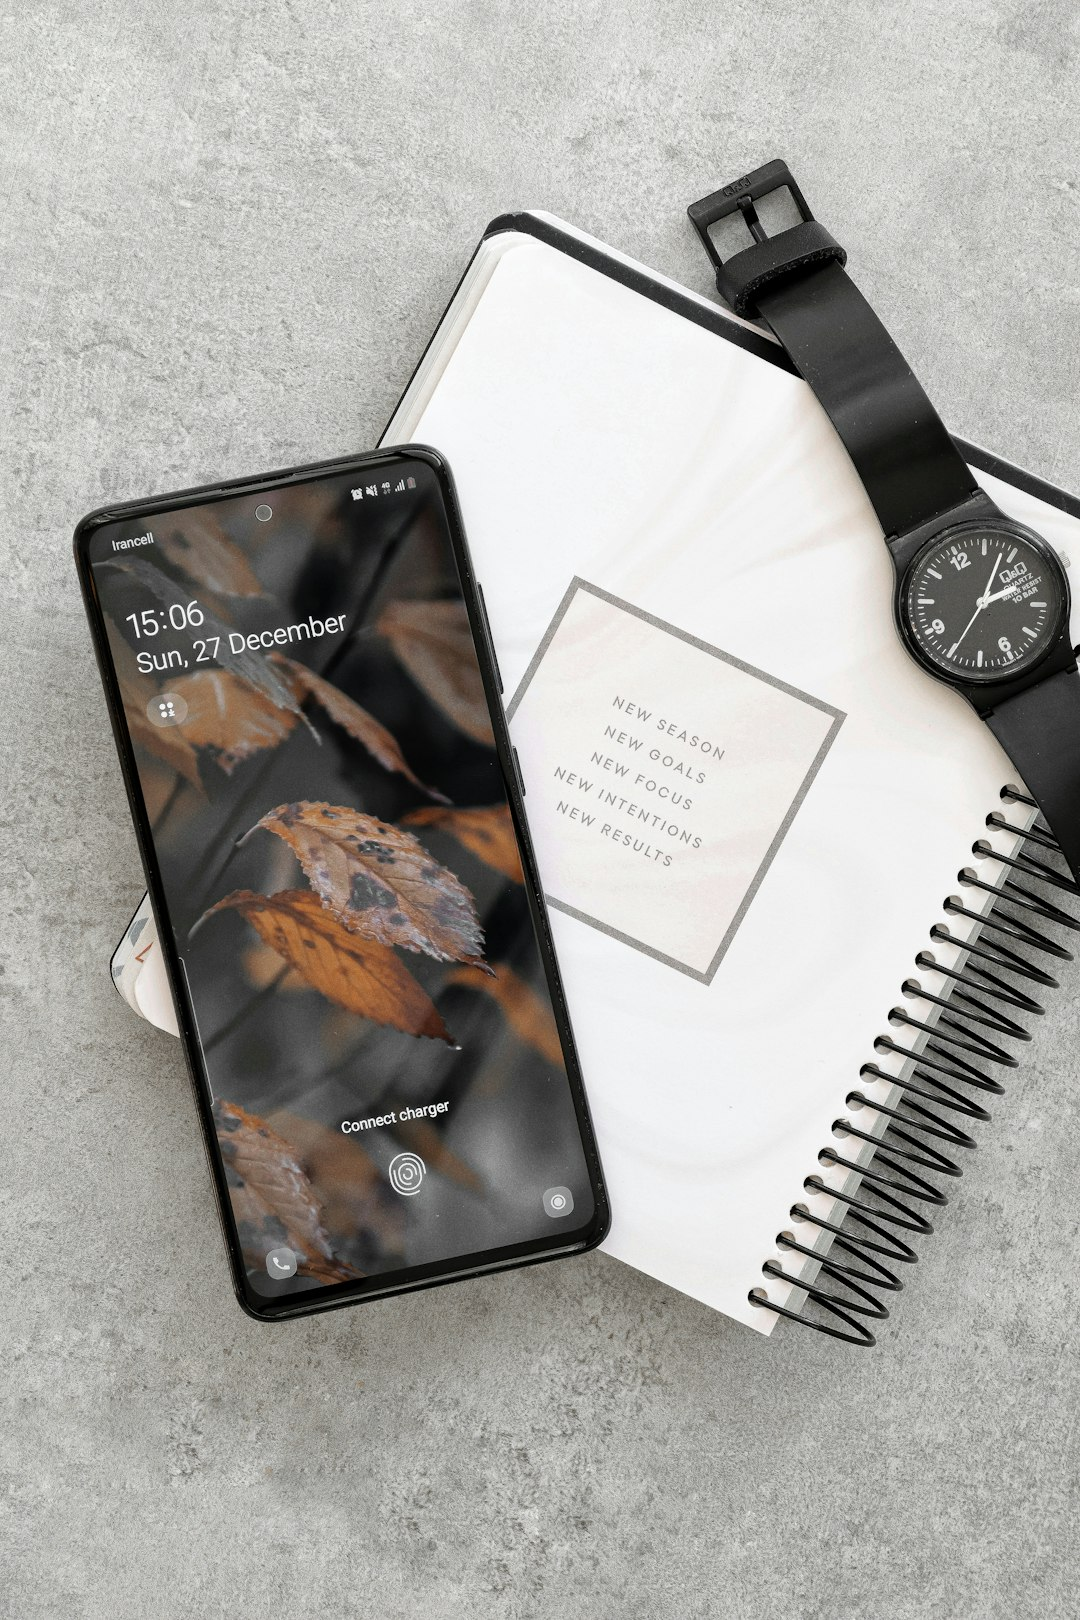phone: (66, 442, 611, 1332)
